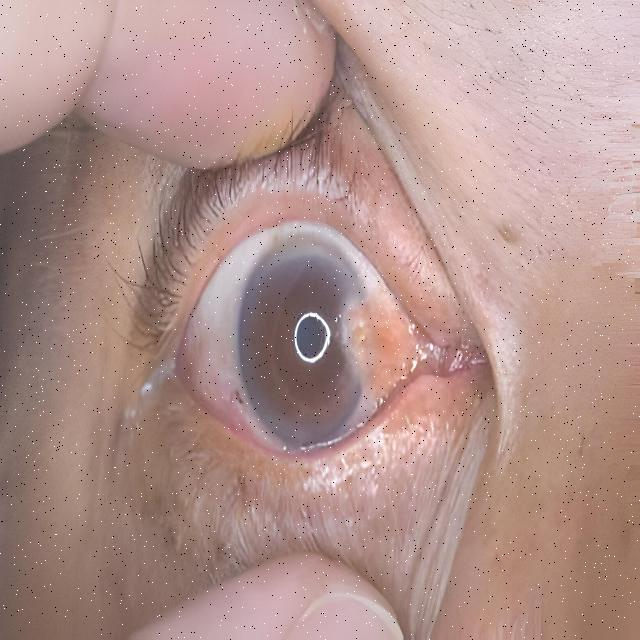Pterygium: (333, 282, 419, 398)
